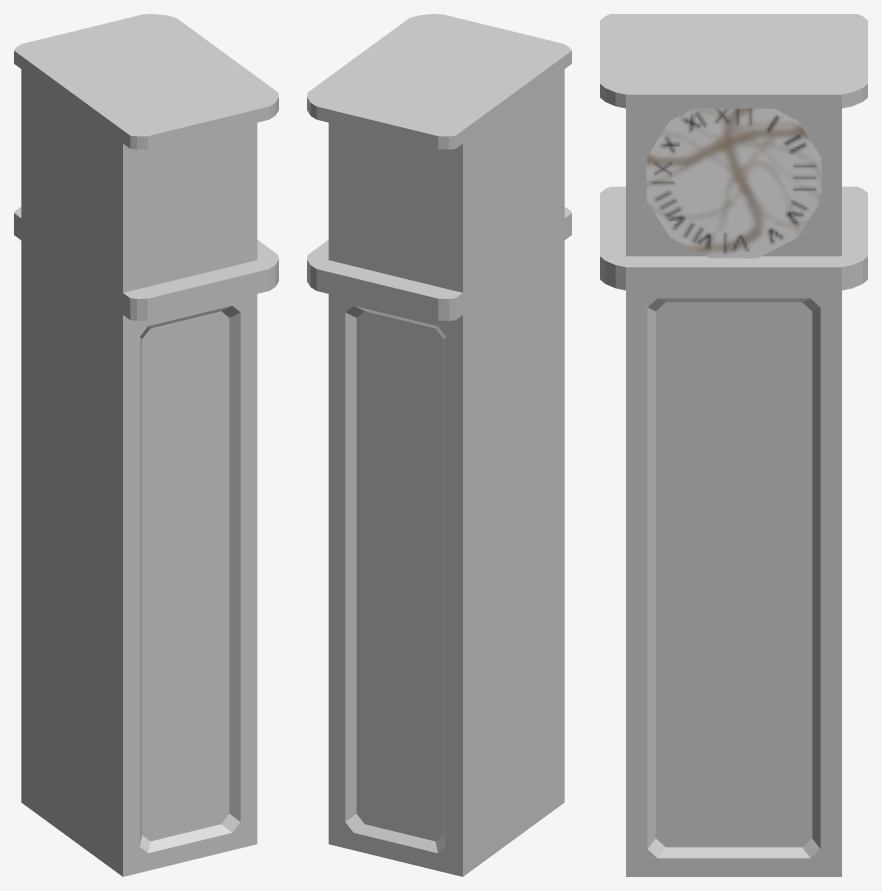
File: clock.fbx
3 views of the same model, side by side, from view 1: azimuth 30°, elevation 25°; view 2: azimuth 150°, elevation 25°; view 3: azimuth 270°, elevation 25° (orthographic). The views are drawn at different scales.
Parts seen in each view (by area): view 1: Cube_selection, brass stuff; view 2: Cube_selection, brass stuff; view 3: Cube_selection, clock face, brass stuff.
Part boxes in pixels (x1=…): Cube_selection: x1=14, y1=14, x2=278, y2=876; brass stuff: x1=140, y1=306, x2=240, y2=853; Cube_selection: x1=307, y1=14, x2=571, y2=876; brass stuff: x1=345, y1=306, x2=445, y2=853; Cube_selection: x1=600, y1=14, x2=867, y2=876; clock face: x1=646, y1=108, x2=821, y2=258; brass stuff: x1=647, y1=298, x2=820, y2=858.
Size of the model in its own units: 3700 by 17000 by 5200.
1 material, 1 textured.
